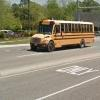Bus: (36, 15, 95, 55)
